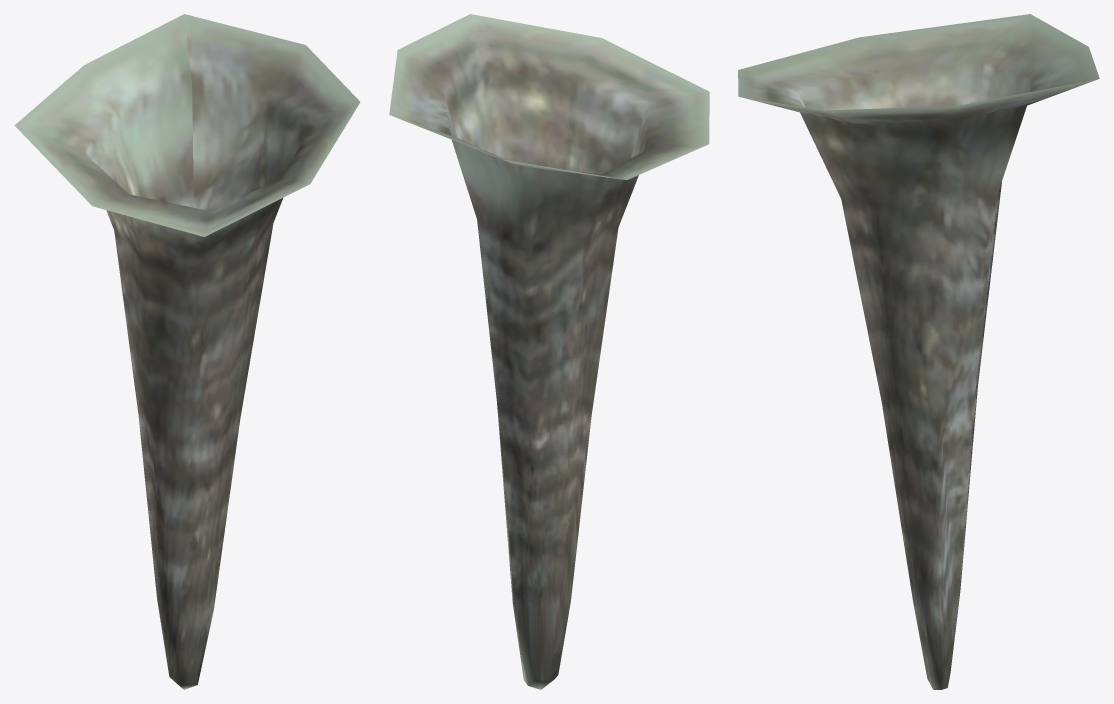
The model's file is TROLLHOLE02_PS-UPPERSTALAG24.fbx.
3 views of the same model, side by side, from view 1: azimuth 30°, elevation 25°; view 2: azimuth 150°, elevation 25°; view 3: azimuth 270°, elevation 25° (orthographic). The views are drawn at different scales.
Visible parts, largest first — view 1: TROLLHOLE02_PS-UPPERSTALAG24; view 2: TROLLHOLE02_PS-UPPERSTALAG24; view 3: TROLLHOLE02_PS-UPPERSTALAG24.
Boxes of the visible parts, bbox=[...] form: TROLLHOLE02_PS-UPPERSTALAG24: bbox=[14, 14, 360, 689]; TROLLHOLE02_PS-UPPERSTALAG24: bbox=[389, 14, 709, 689]; TROLLHOLE02_PS-UPPERSTALAG24: bbox=[738, 14, 1099, 689].
Bounding box in the file's own units: 11427 × 25414 × 12776.
Materials: 1 (1 with a texture image).
